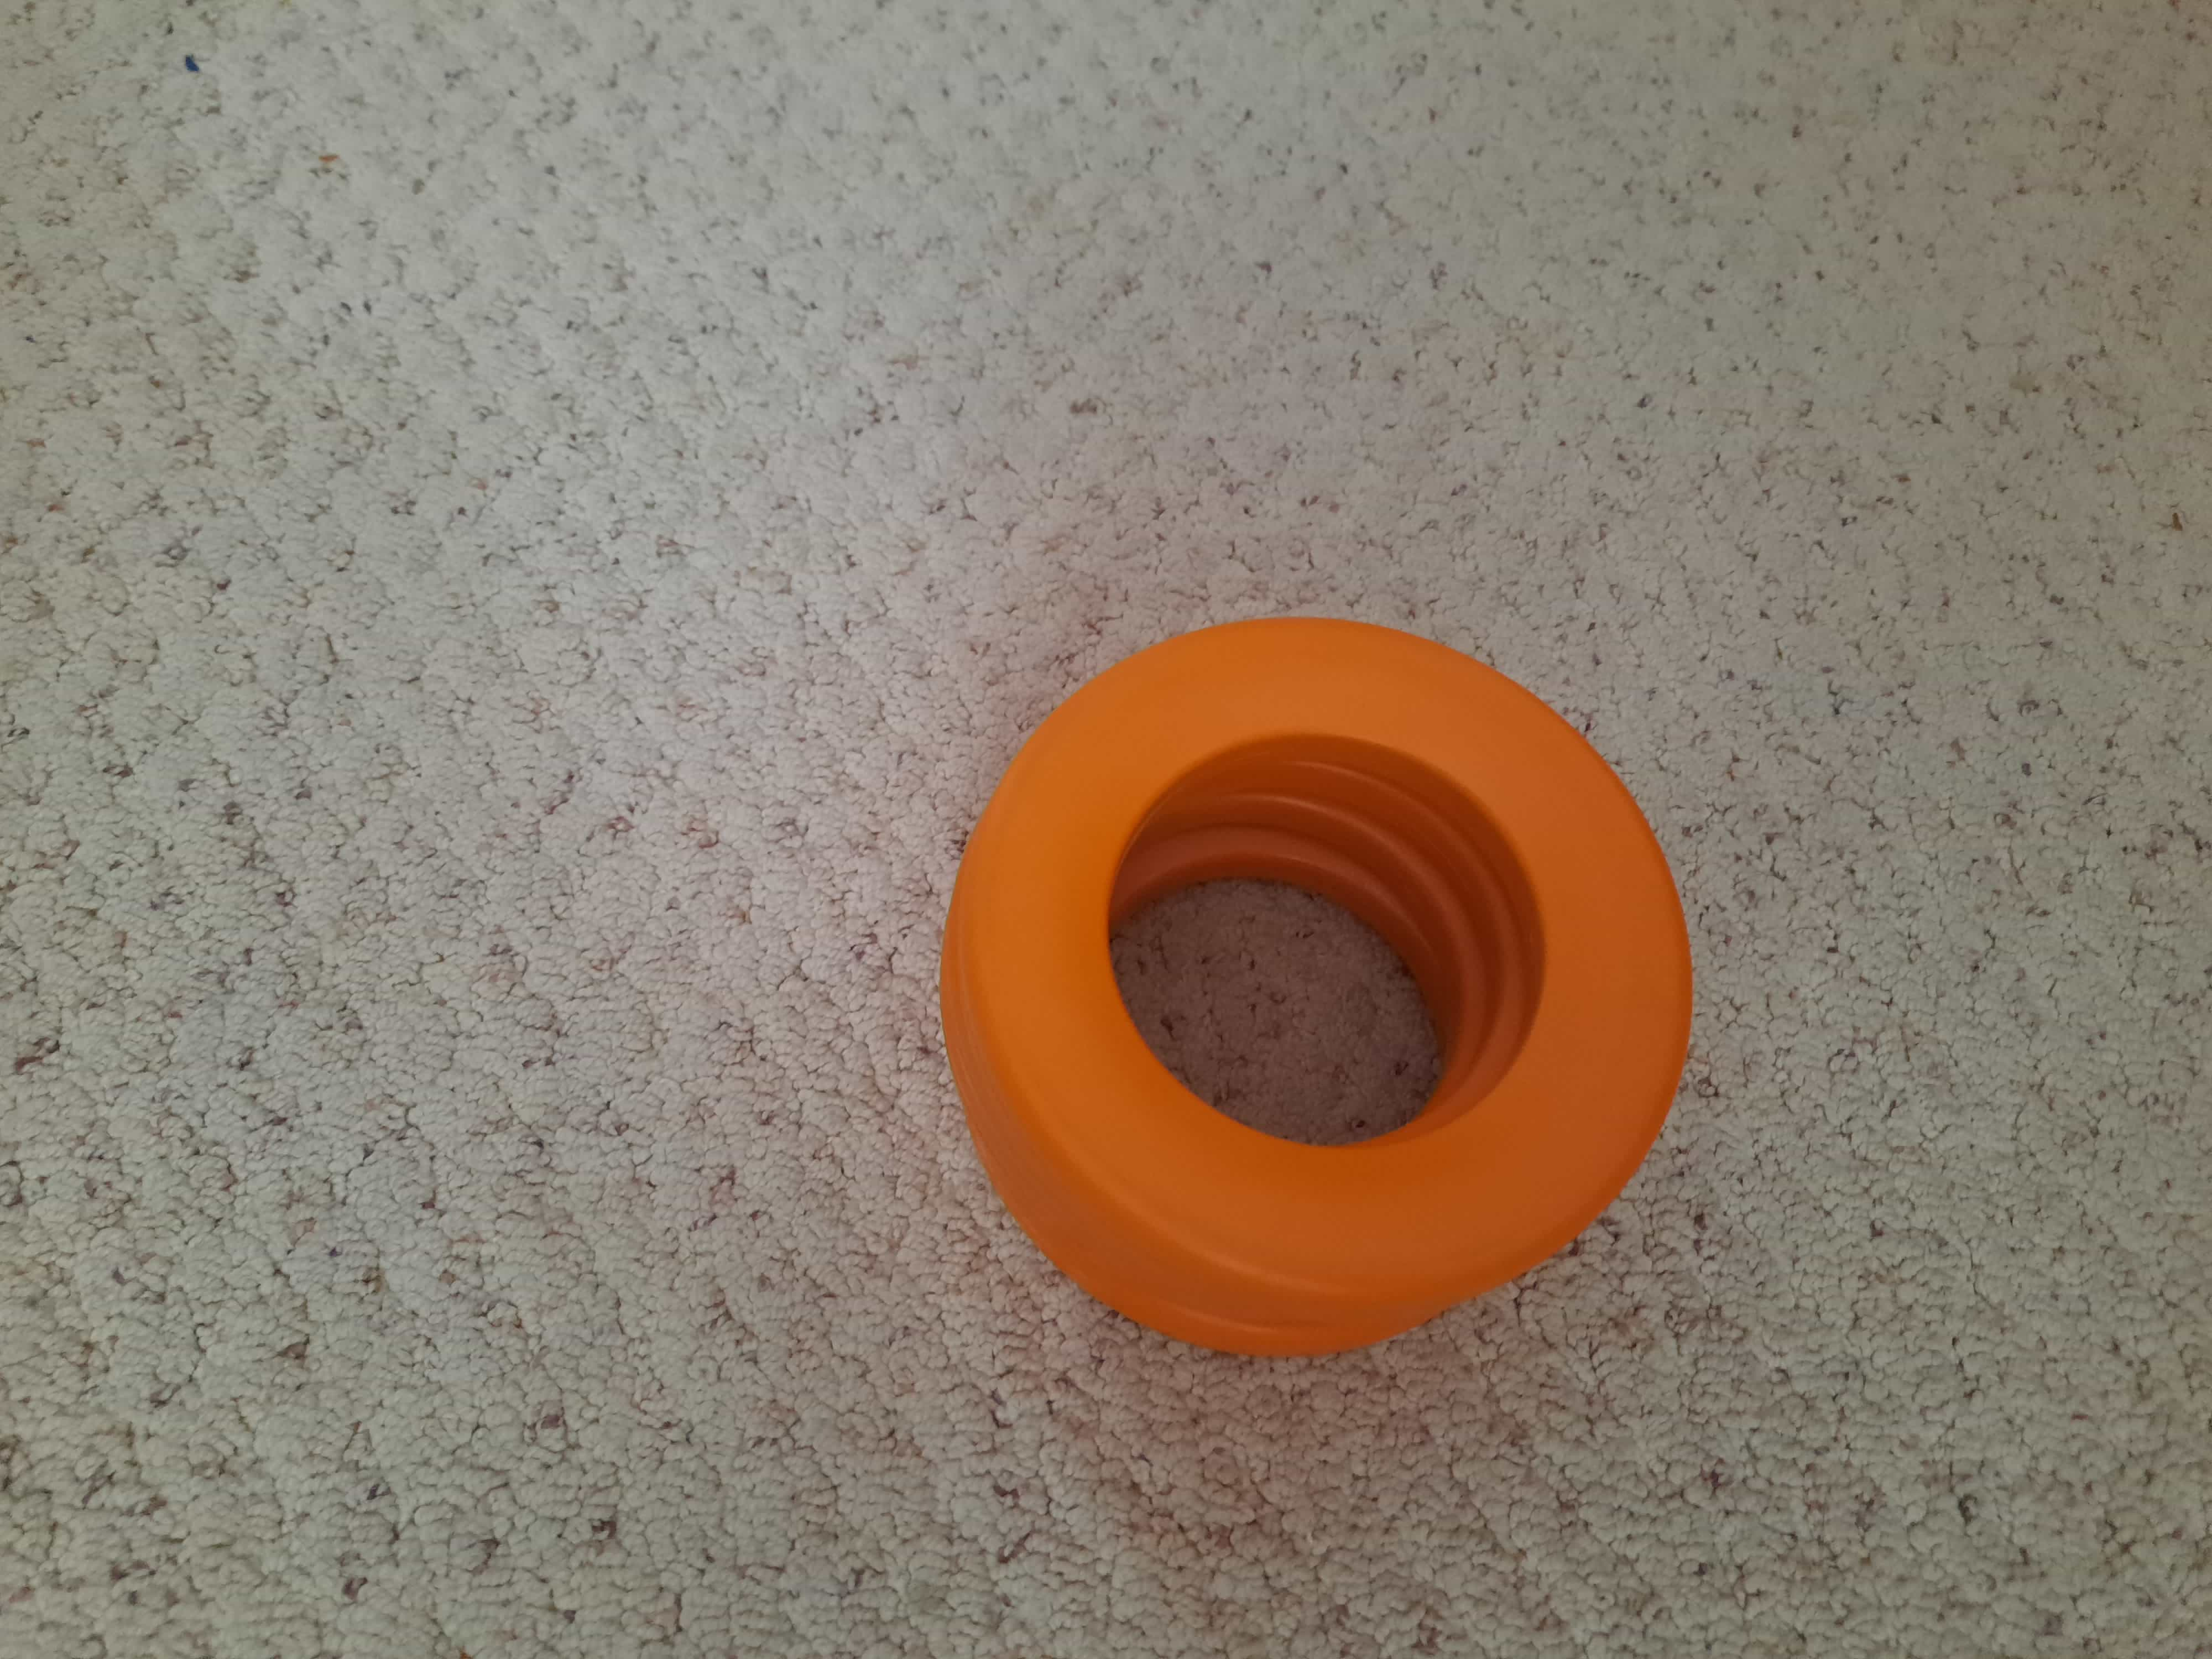FourStack: (961, 617, 1693, 1342)
